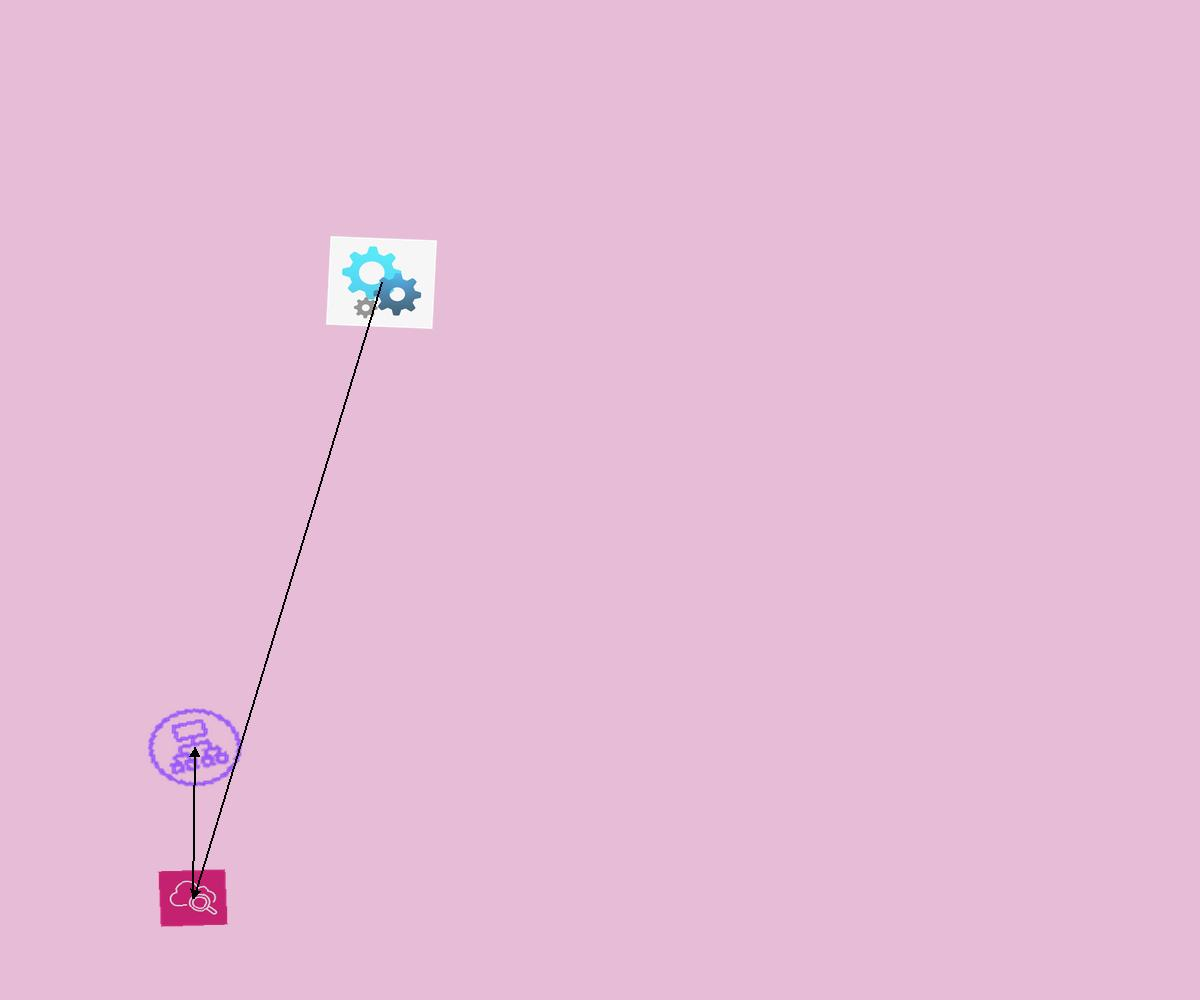AWS-CloudWatch: (158, 869, 228, 927)
AWS-Res_Elastic-Load-Balancing_Application-Load-Balancer: (132, 695, 258, 800)
Azure_api: (326, 236, 437, 329)
